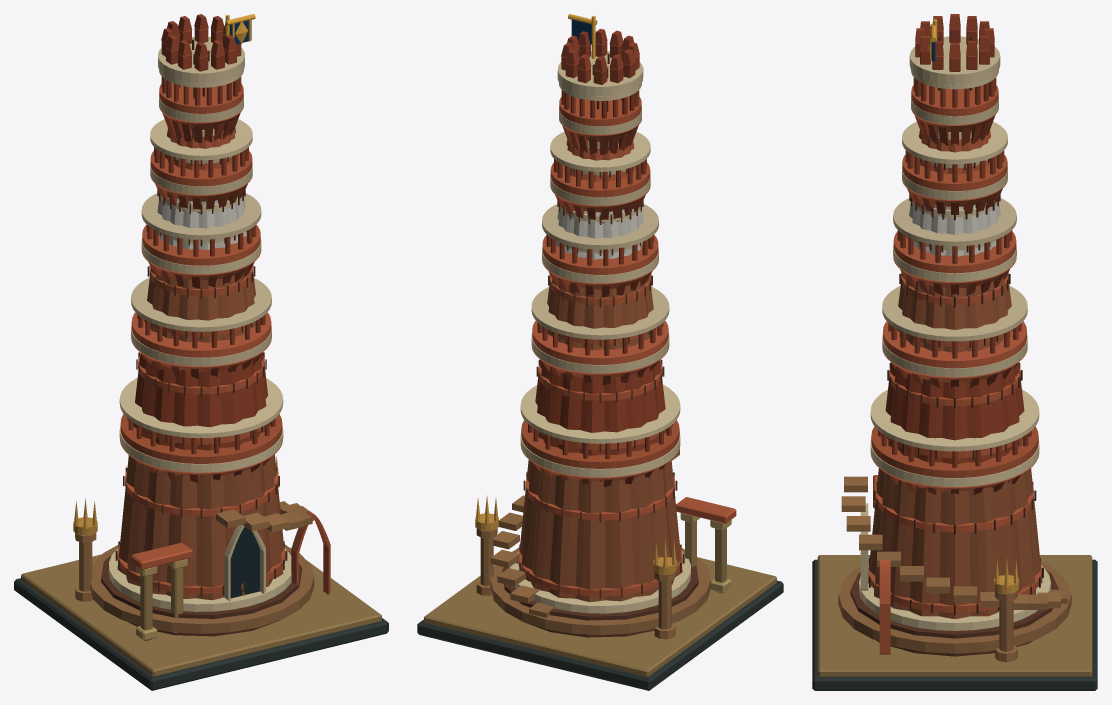
The picture shows the model from 3 angles, left to right: view 1: azimuth 30°, elevation 25°; view 2: azimuth 150°, elevation 25°; view 3: azimuth 270°, elevation 25°; orthographic projection. The views are drawn at different scales.
Parts seen in each view (by area): view 1: archer_tower_L3_0, archer_tower_L3_1; view 2: archer_tower_L3_0, archer_tower_L3_1; view 3: archer_tower_L3_0, archer_tower_L3_1.
Boxes of the visible parts, x1,y1,x2,y2 form: archer_tower_L3_0: (14,14,388,690); archer_tower_L3_1: (73,14,279,535); archer_tower_L3_0: (417,19,783,690); archer_tower_L3_1: (475,14,676,574); archer_tower_L3_0: (812,14,1097,690); archer_tower_L3_1: (928,19,1019,593).
Size of the model in its own units: 3.6 by 8.63 by 3.6.
